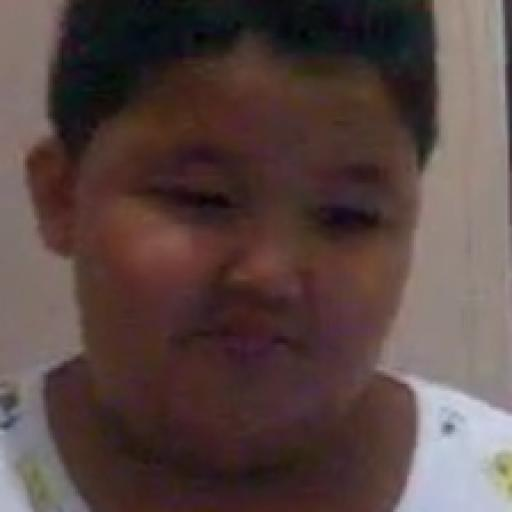Autism: (74, 0, 431, 486)
